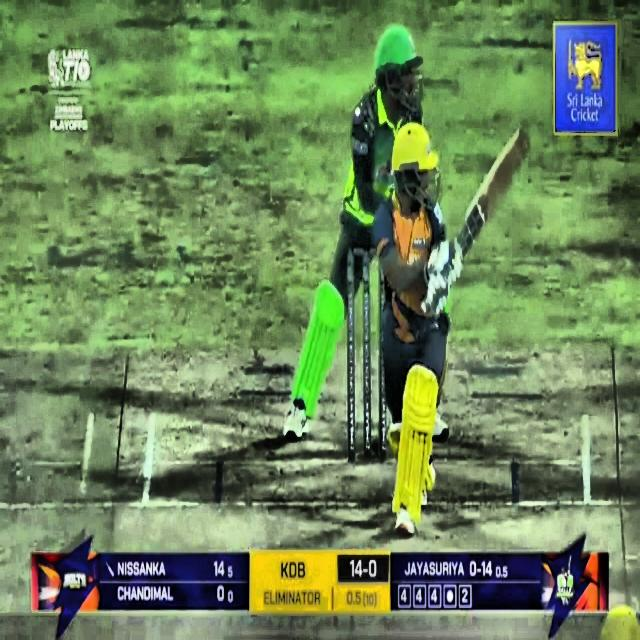Left-stump: (347, 249, 355, 462)
Middle-stump: (362, 248, 370, 462)
Right-stump: (378, 273, 388, 459)
